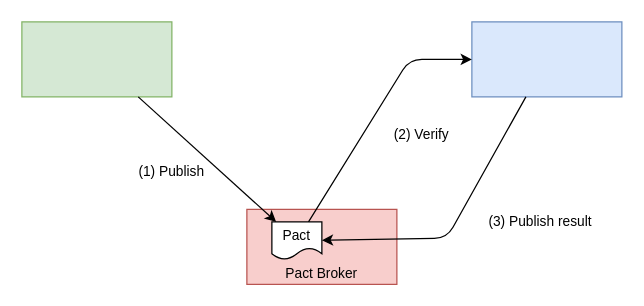
The diagram is 644 pixels wide and 306 high, and some of its shapes have lost their labels. Each missing label, with the box of its shape:
Consumer: (21, 21, 172, 97)
Provider: (471, 21, 622, 97)
